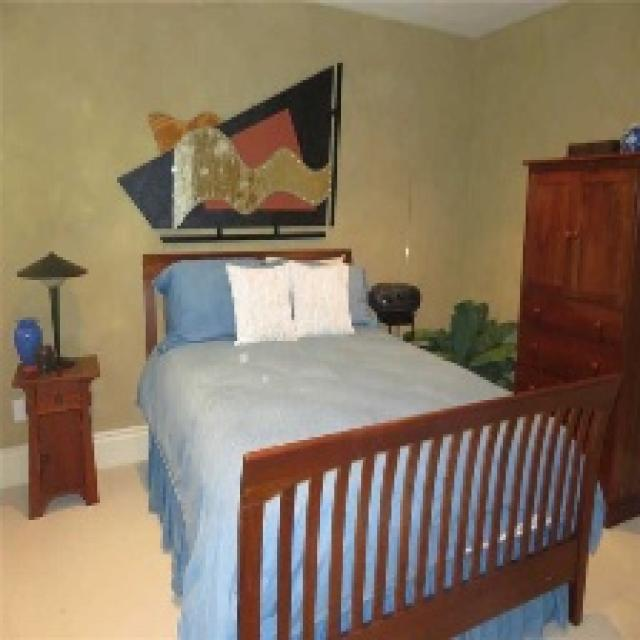Bed: (134, 246, 623, 637)
